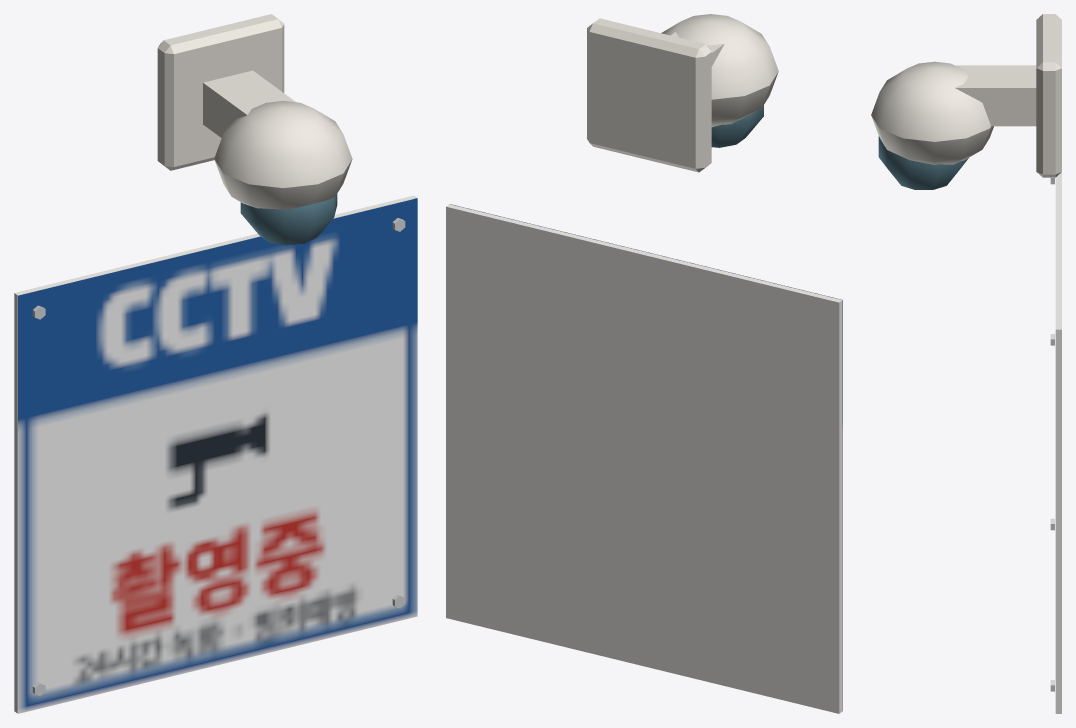
File: SC_Util_Sign_CCTV.gltf
The picture shows the model from 3 angles, left to right: view 1: azimuth 30°, elevation 25°; view 2: azimuth 150°, elevation 25°; view 3: azimuth 270°, elevation 25°; orthographic projection. The views are drawn at different scales.
Parts seen in each view (by area): view 1: SC_Util_Sign_CCTV; view 2: SC_Util_Sign_CCTV; view 3: SC_Util_Sign_CCTV.
Part boxes in pixels (box(x1,y1,x2,y2)): SC_Util_Sign_CCTV: box(14, 14, 417, 713); SC_Util_Sign_CCTV: box(446, 14, 842, 713); SC_Util_Sign_CCTV: box(871, 14, 1061, 713).
Bounding box in the file's own units: 0.4 × 0.61 × 0.18.
2 materials, 2 textured.
